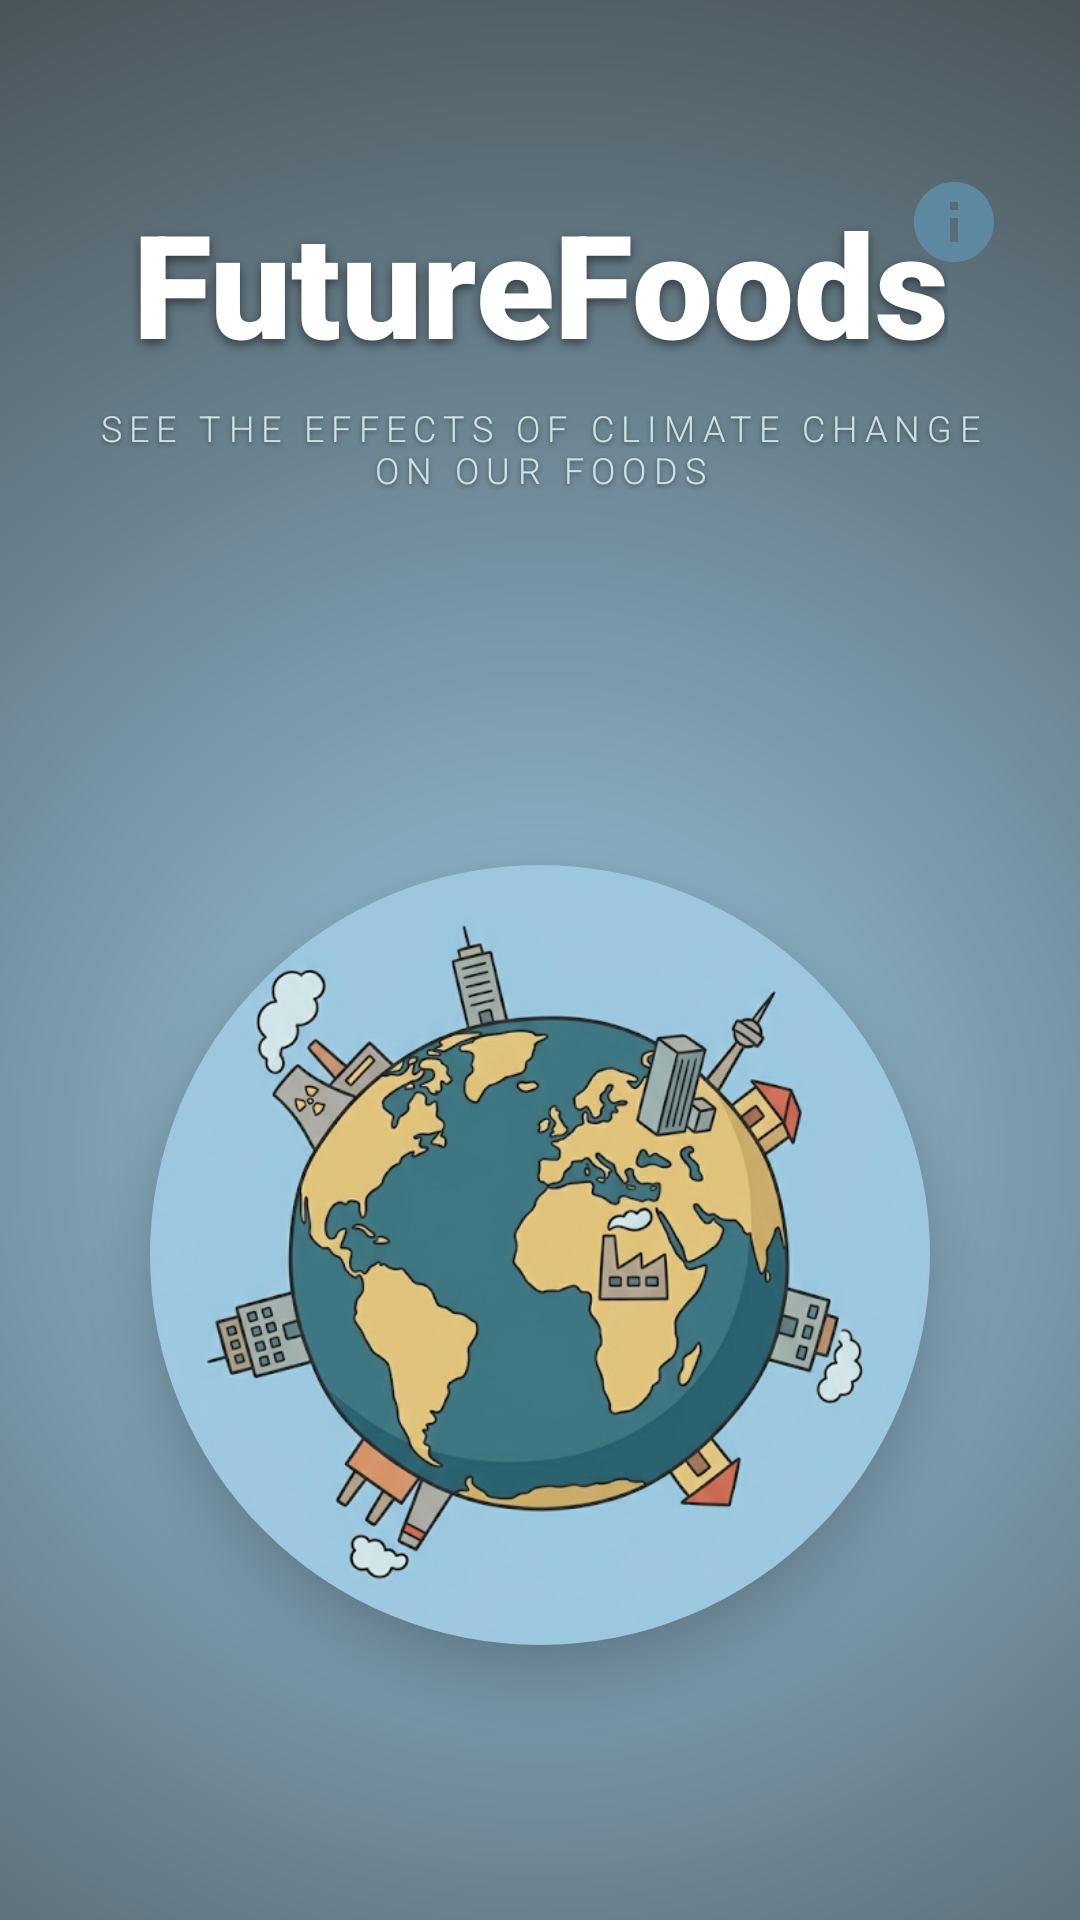

Icons on this 1080px x 1920px Android screen, each with its box as (x1, y1, x2, y2):
info: (914, 182, 994, 262)
